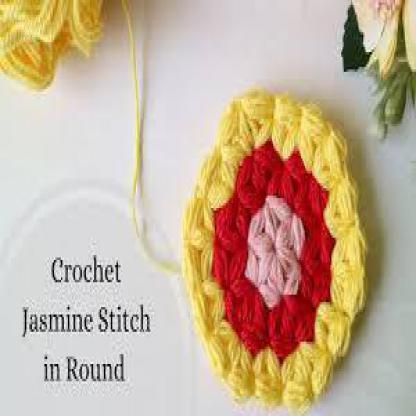Kupu-Kupu: (251, 172, 328, 318), (326, 98, 362, 179)
